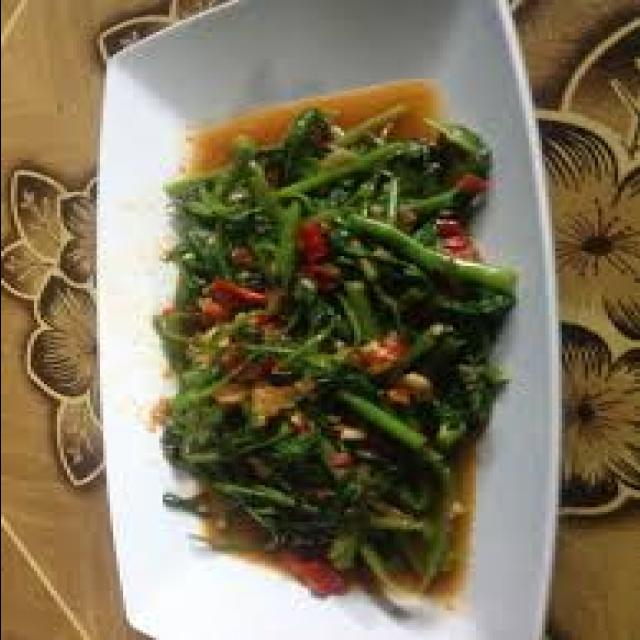tumis kangkung: (159, 126, 517, 602)
